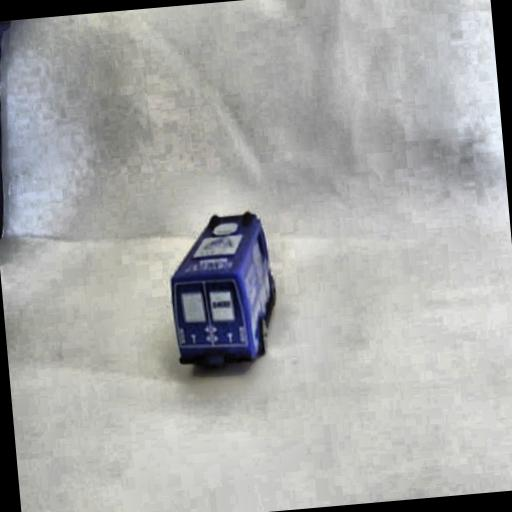police car: (166, 198, 284, 369)
